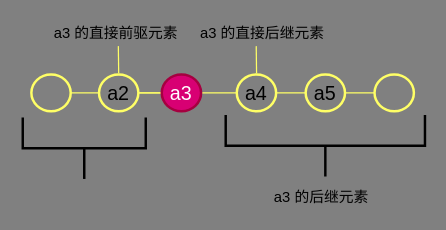
Image size: 446x230. Some labels were removed from this diagram. Here are the shapes that lost their labels. From the top down, the centre of each, then its label:
(50,92): a1
(394,92): a6
(83,148): a3 的前驱元素
